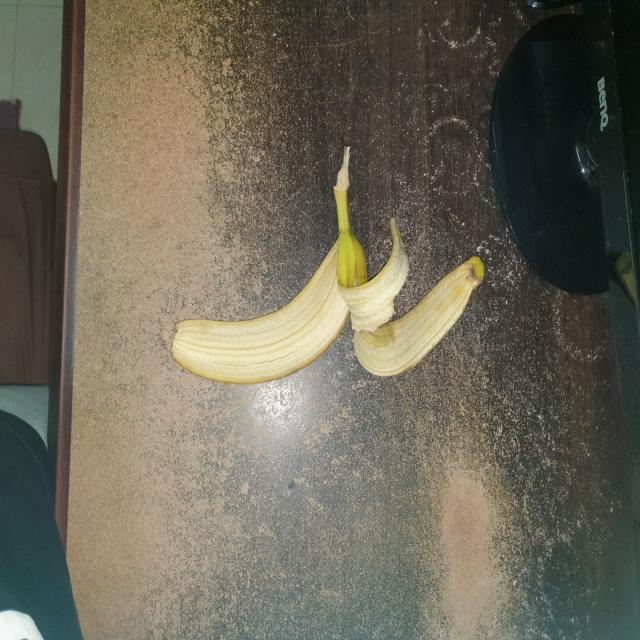banana-peel: (174, 177, 374, 384), (352, 254, 485, 377)
